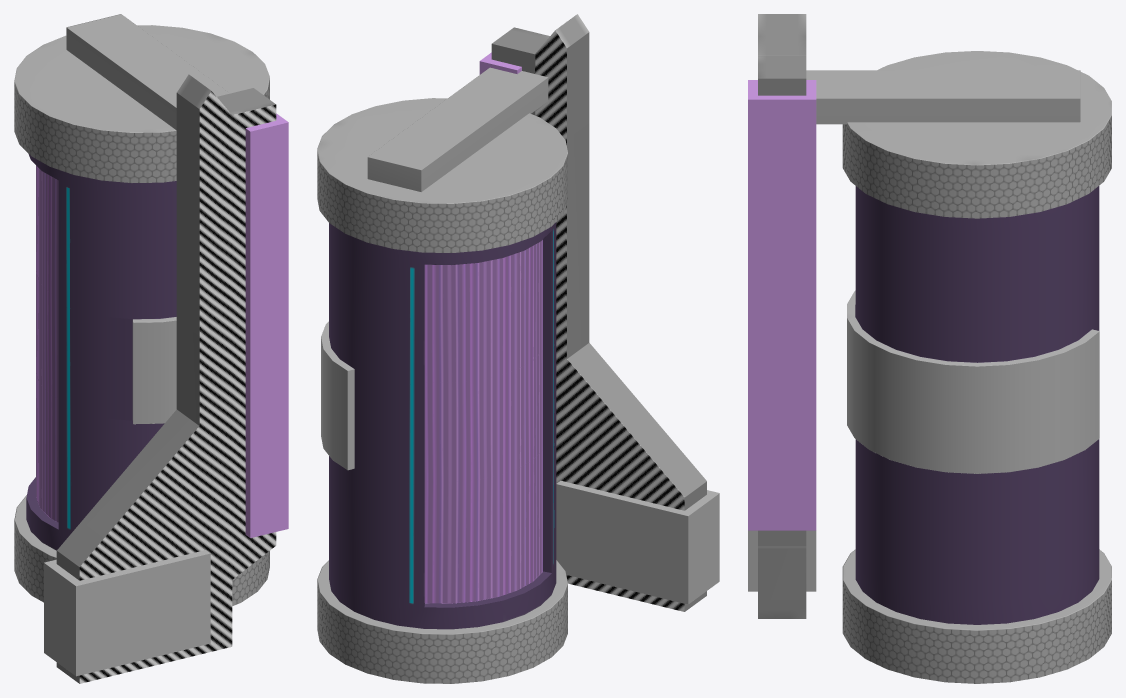
File: SM_Construction_03.fbx
The picture shows the model from 3 angles, left to right: view 1: azimuth 30°, elevation 25°; view 2: azimuth 150°, elevation 25°; view 3: azimuth 270°, elevation 25°; orthographic projection. The views are drawn at different scales.
Parts seen in each view (by area): view 1: SM_Construction_03; view 2: SM_Construction_03; view 3: SM_Construction_03.
Part boxes in pixels (left/top/right/bottom): SM_Construction_03: left=14, top=14, right=288, bottom=683; SM_Construction_03: left=317, top=14, right=719, bottom=683; SM_Construction_03: left=748, top=14, right=1111, bottom=683.
Size of the model in its own units: 174 by 181 by 328.
1 material, 1 textured.
